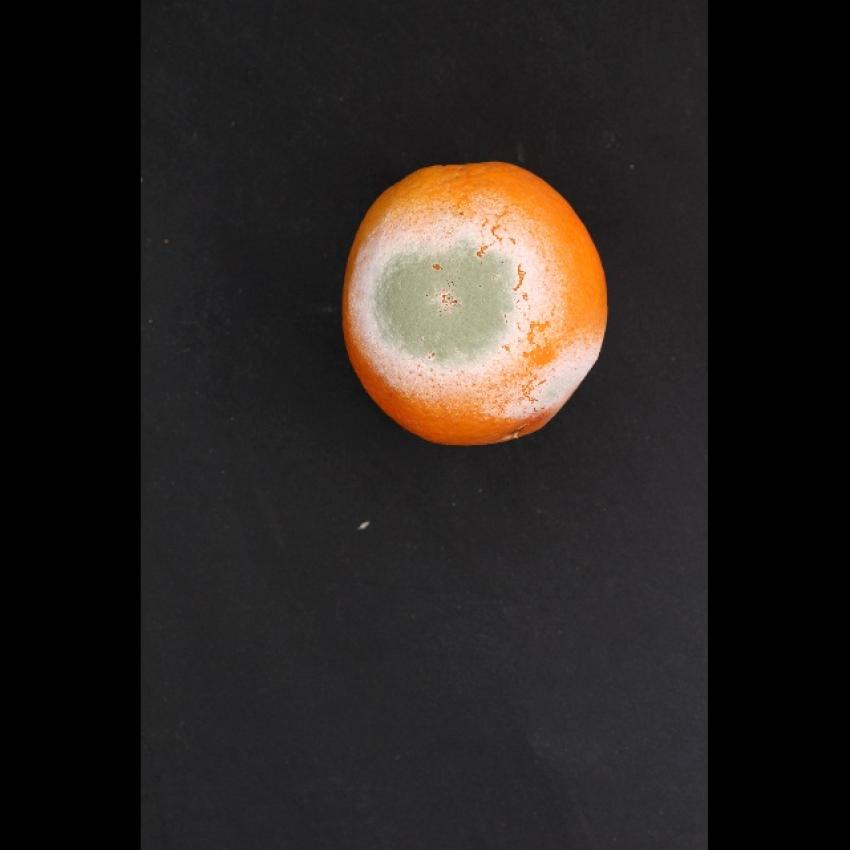Mal estado: (333, 155, 618, 450)
